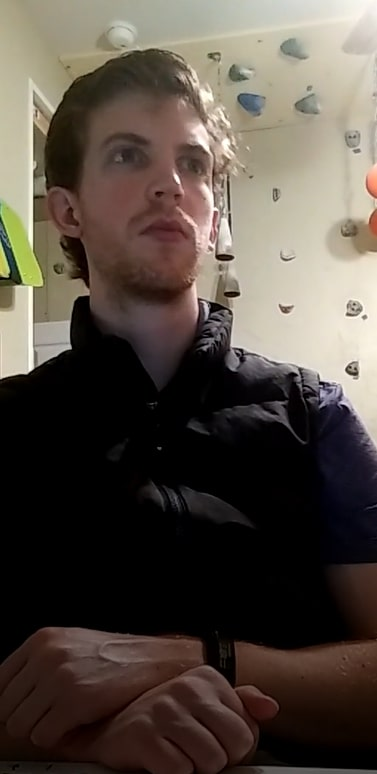Not Sleeping: (99, 124, 215, 188)
